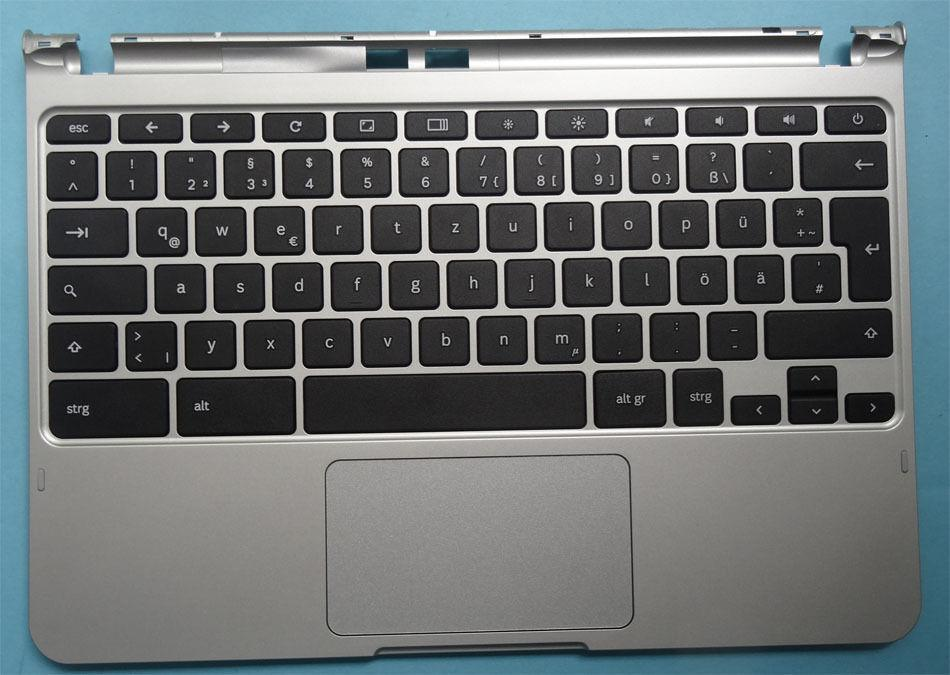0: (625, 140, 678, 191)
1: (103, 147, 156, 197)
2: (162, 146, 215, 197)
3: (221, 146, 275, 196)
4: (280, 144, 332, 195)
5: (338, 144, 392, 195)
6: (396, 144, 449, 194)
7: (454, 143, 506, 194)
8: (510, 142, 563, 193)
9: (568, 141, 621, 192)
a: (151, 260, 205, 311)
accent: (741, 138, 791, 187)
ae: (731, 251, 783, 301)
alt-left: (173, 372, 296, 436)
altgr-right: (589, 366, 666, 427)
b: (416, 313, 470, 363)
c: (299, 314, 352, 366)
caret: (43, 147, 96, 198)
comma: (589, 310, 642, 359)
d: (269, 259, 322, 309)
del: (797, 137, 887, 187)
e: (251, 202, 304, 253)
enter: (826, 190, 890, 300)
f: (328, 258, 381, 308)
g: (386, 257, 439, 307)
h: (444, 256, 496, 306)
hash: (788, 249, 839, 300)
i: (541, 198, 593, 247)
j: (502, 254, 554, 305)
k: (559, 253, 611, 304)
keyboard: (28, 94, 906, 446)
l: (617, 253, 669, 303)
less: (122, 317, 176, 369)
m: (531, 310, 584, 362)
minus: (703, 308, 756, 357)
n: (474, 311, 527, 363)
o: (598, 197, 651, 247)
oe: (674, 252, 726, 302)
p: (656, 196, 708, 246)
plus: (770, 194, 822, 244)
point: (647, 308, 699, 358)
q: (132, 203, 187, 255)
r: (310, 201, 362, 252)
s: (211, 260, 264, 310)
shift-left: (44, 318, 116, 370)
shift-lock: (43, 260, 148, 316)
shift-right: (760, 304, 892, 364)
space: (301, 368, 584, 431)
ss: (683, 139, 735, 190)
strg-left: (40, 374, 170, 439)
strg-right: (669, 364, 723, 424)
t: (370, 200, 422, 250)
tab: (43, 203, 127, 255)
u: (484, 199, 536, 249)
ue: (713, 195, 765, 245)
v: (358, 313, 411, 364)
w: (193, 202, 246, 253)
x: (242, 316, 295, 366)
y: (182, 316, 236, 368)
z: (426, 200, 479, 250)
